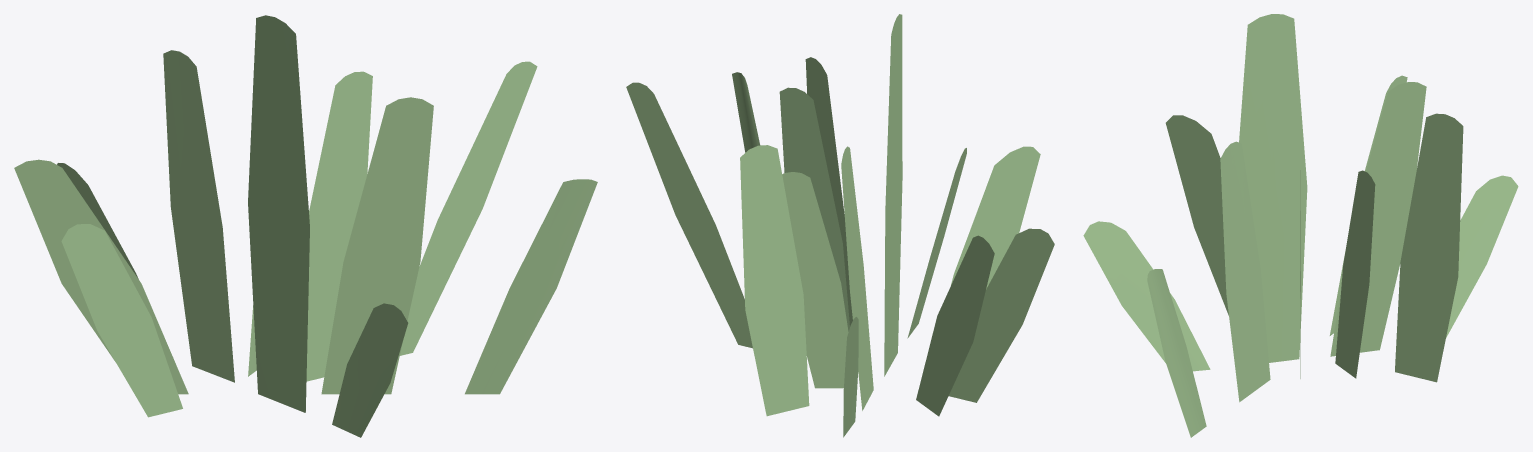
The model's file is AW_Grass_3.fbx.
3 views of the same model, side by side, from view 1: azimuth 30°, elevation 25°; view 2: azimuth 150°, elevation 25°; view 3: azimuth 270°, elevation 25° (orthographic). The views are drawn at different scales.
Visible parts, largest first — view 1: AW_Grass_3; view 2: AW_Grass_3; view 3: AW_Grass_3.
Part boxes in pixels (x1=…): AW_Grass_3: x1=14, y1=15, x2=597, y2=437; AW_Grass_3: x1=626, y1=14, x2=1054, y2=437; AW_Grass_3: x1=1083, y1=14, x2=1518, y2=437.
Bounding box in the file's own units: 332 × 258 × 295.
